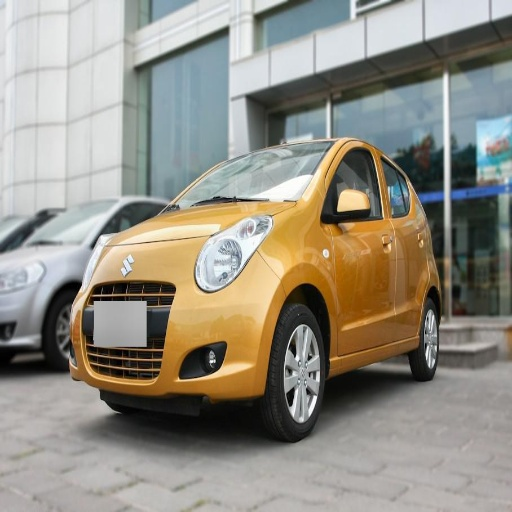front_bumper: (83, 236, 284, 400)
front_glass: (177, 145, 330, 205)
front_left_door: (322, 143, 395, 354)
trunk: (86, 244, 135, 309)
